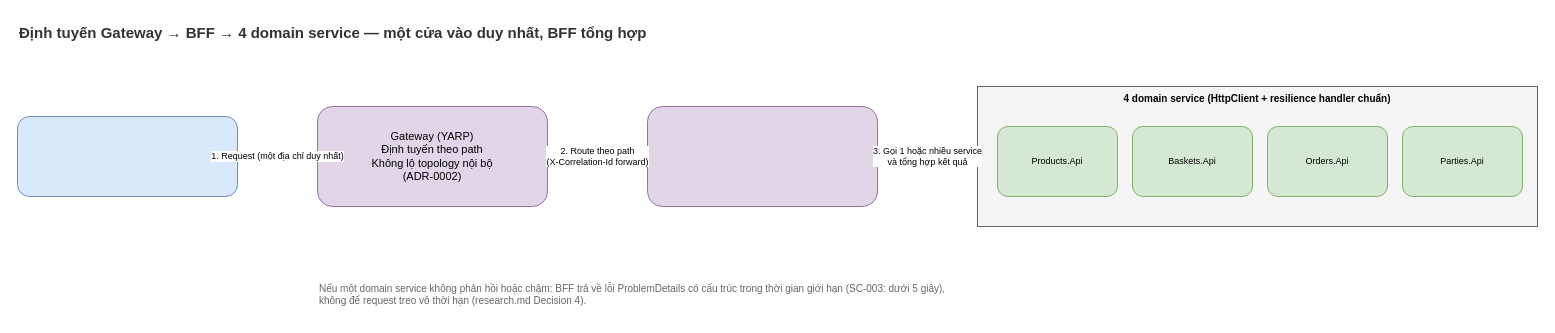
Some shapes in this 1555 by 333 pixel diagram are drawn without their labels. Each missing label, with the centre of its shape:
"BFF (Minimal API) Aggregation + shaping KHÔNG business logic (ADR-0003)" belongs at point (762, 156).
"Client (SPA) chỉ biết MỘT địa chỉ duy nhất" belongs at point (127, 156).
